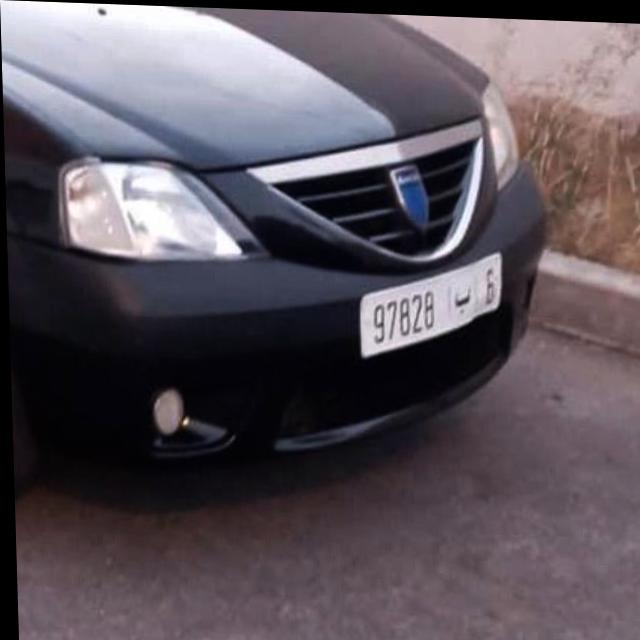License-Plate: (358, 250, 500, 356)
